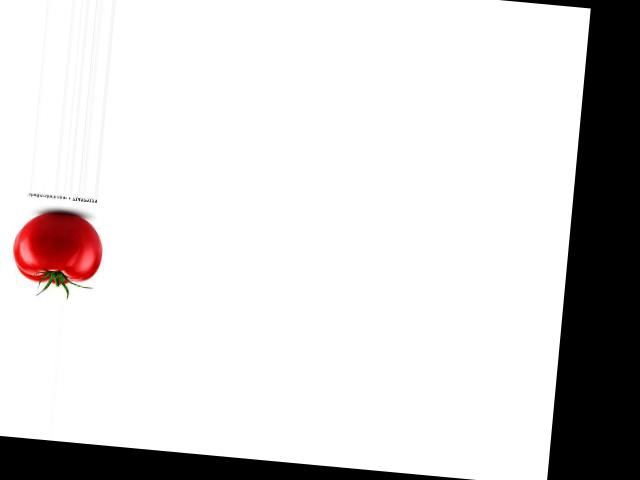tomato: (10, 209, 105, 286)
